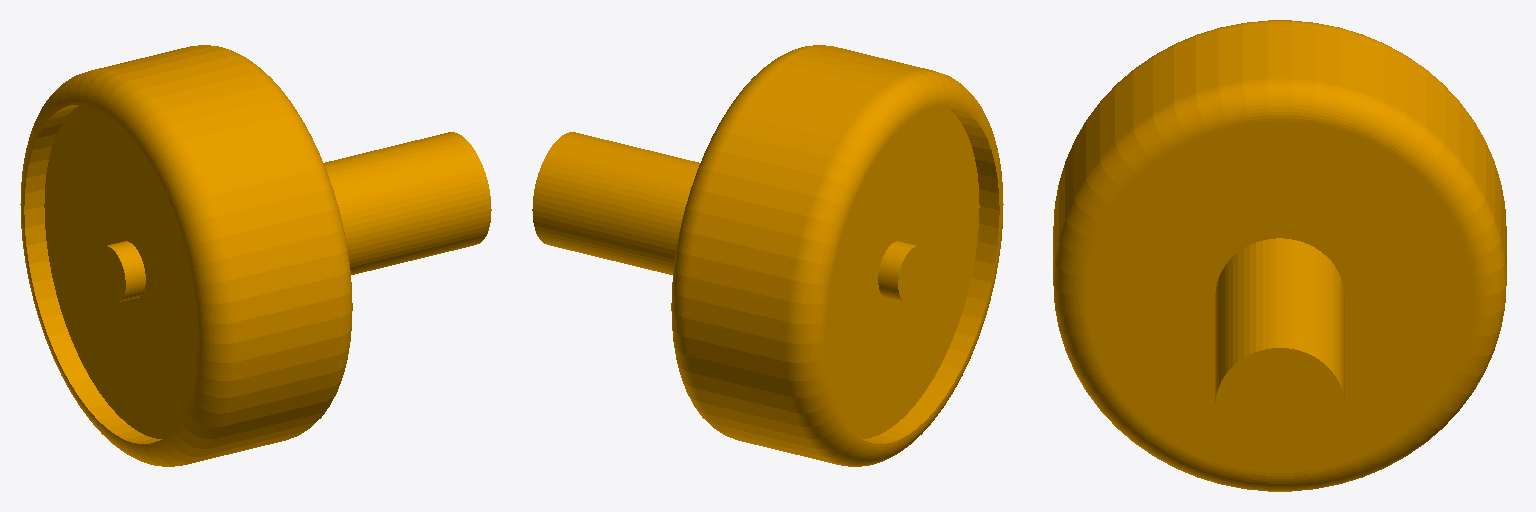
URDF robot description (car_4_sdf):
<?xml version="1.0"?>
<robot name="car_4_sdf">
  <link name="car_4_sdf">
    <visual>
      <origin xyz="0 0 0" rpy="0 0 0"/>
      <geometry><mesh filename="4_canonical.obj" scale="1 1 1"/></geometry>
    </visual>
    <collision>
      <origin xyz="0 0 0" rpy="0 0 0"/>
      <geometry><mesh filename="4_canonical.obj" scale="1 1 1"/></geometry>
      <sdf resolution="512"/>
    </collision>
    <inertial><density value="1250.0"/></inertial>
  </link>
</robot>

--- What the picture shows (computed from the rendered views, not written in the file) ---
Views: 3 orthographic renders of the robot side by side, from view 1: azimuth 30°, elevation 25°; view 2: azimuth 150°, elevation 25°; view 3: azimuth 270°, elevation 25°.
Robot: car_4_sdf — 1 links, 0 joints (none); root link car_4_sdf; default pose: every joint at zero.
Links seen in each view (by area): view 1: car_4_sdf; view 2: car_4_sdf; view 3: car_4_sdf.
Boxes of the visible links, x1,y1,x2,y2 form: car_4_sdf: (20, 45, 491, 466); car_4_sdf: (532, 45, 1003, 466); car_4_sdf: (1053, 20, 1506, 491).
Size in the robot's own frame: 0.035 by 0.035 by 0.0349 metres.
1 mesh visuals loaded from 1 distinct referenced files (1 OBJ).
